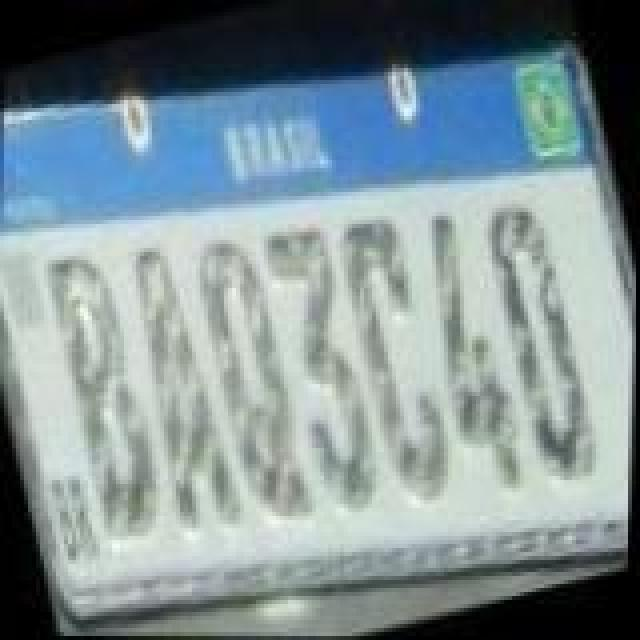3: (250, 220, 398, 528)
4: (400, 202, 544, 502)
A: (108, 234, 256, 542)
B: (30, 240, 182, 552)
C: (322, 208, 470, 520)
D: (472, 194, 616, 494)
Q: (178, 222, 330, 538)
